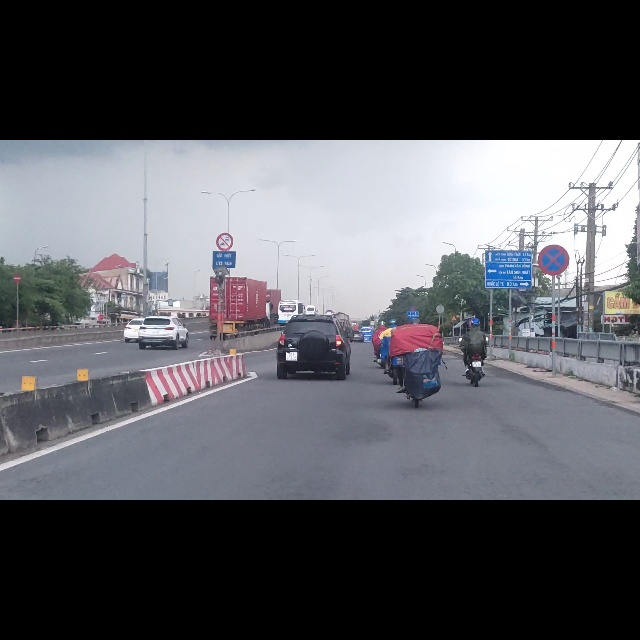bien_nguy_hiem: (537, 185, 569, 242), (212, 197, 237, 233), (14, 239, 21, 254), (100, 311, 104, 319)
